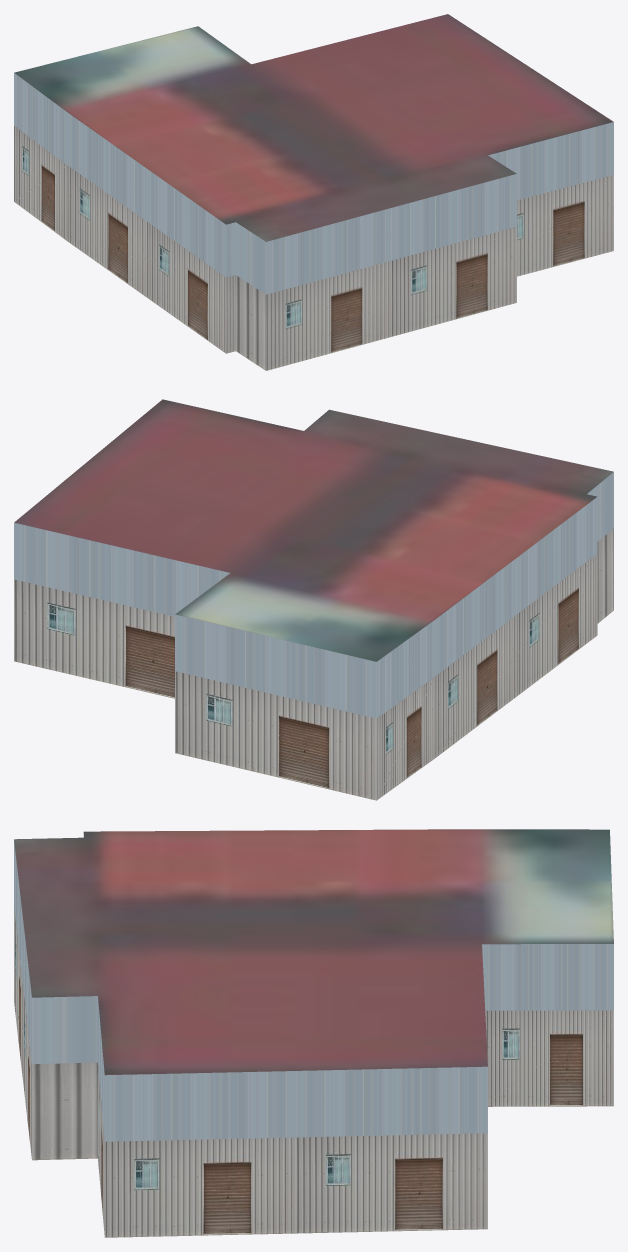
3 renders of one model, top to bottom at view 1: azimuth 30°, elevation 25°; view 2: azimuth 150°, elevation 25°; view 3: azimuth 270°, elevation 25°, orthographic. The views are drawn at different scales.
Parts seen in each view (by area): view 1: SketchUp (×3); view 2: SketchUp (×3); view 3: SketchUp (×3).
Part boxes in pixels (left/top/right/bottom): SketchUp (×3): left=14, top=14, right=613, bottom=370; SketchUp (×3): left=14, top=399, right=613, bottom=800; SketchUp (×3): left=14, top=829, right=613, bottom=1237.
Bounding box in the file's own units: 714 × 736 × 220.
3 materials, 3 textured.
